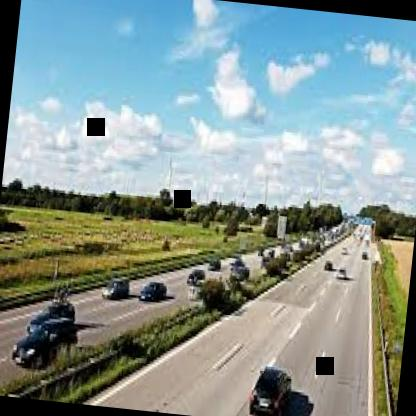car: (5, 316, 89, 373), (244, 356, 295, 416), (25, 284, 82, 332), (98, 250, 134, 311), (133, 264, 171, 314), (200, 242, 226, 274), (219, 263, 250, 287), (182, 269, 205, 294), (318, 254, 336, 276), (332, 267, 352, 282), (357, 248, 371, 265), (340, 240, 352, 258)
